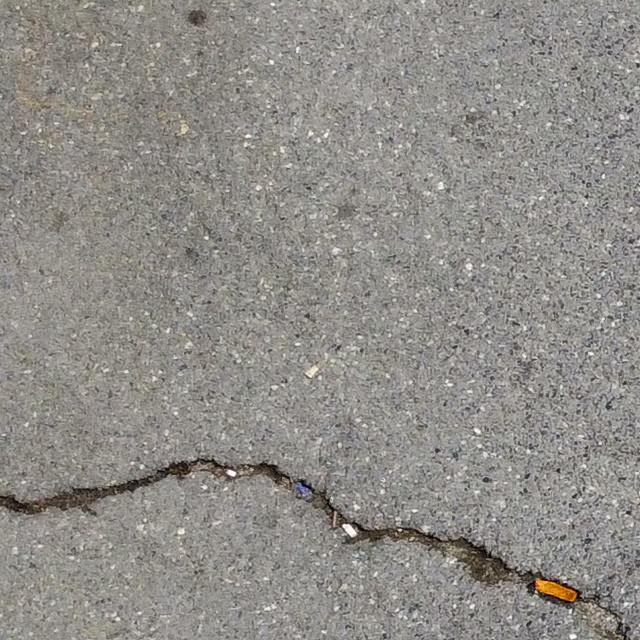TransverseCrack: (1, 457, 629, 640)
